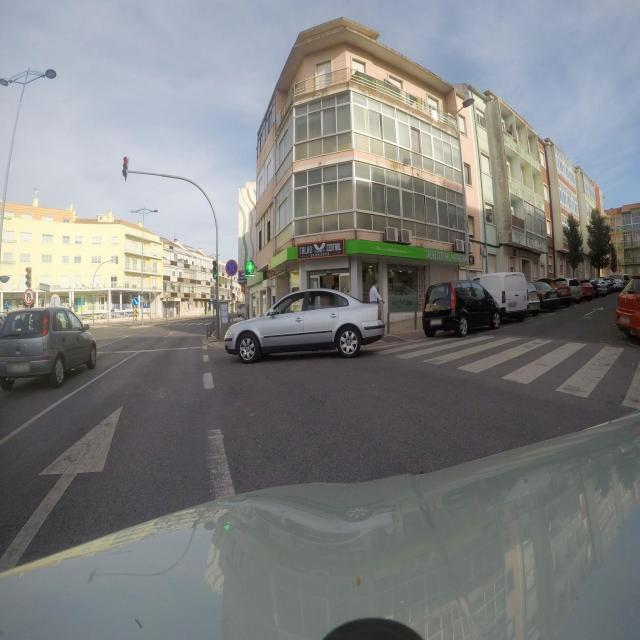car: (223, 287, 386, 364), (0, 306, 97, 391), (422, 279, 502, 338), (472, 271, 541, 321), (615, 274, 640, 350), (532, 282, 563, 312), (556, 278, 583, 304), (578, 278, 596, 300), (591, 278, 609, 297), (602, 276, 615, 292), (613, 276, 624, 290)
